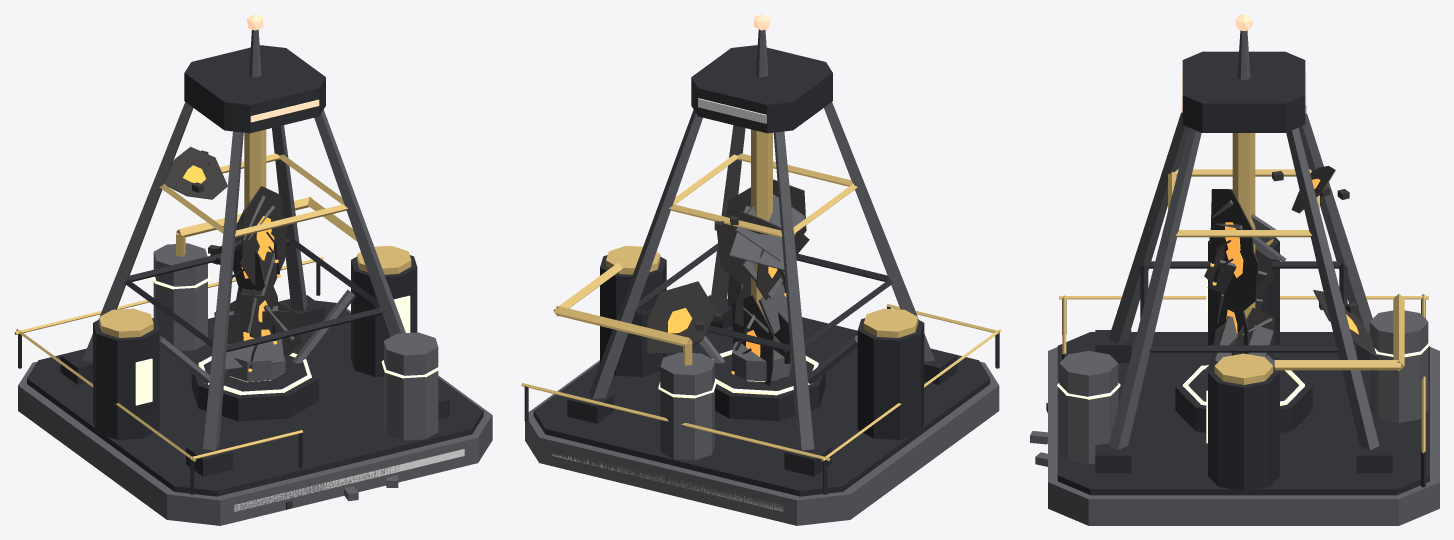
File: Aegis_ExtractionRig.fbx
3 renders of one model, left to right at view 1: azimuth 30°, elevation 25°; view 2: azimuth 150°, elevation 25°; view 3: azimuth 270°, elevation 25°, orthographic. The views are drawn at different scales.
Visible parts, largest first — view 1: ER_BaseTop, ER_Base, ER_Crown, ER_Tank1, ER2_Tank1, ER_Wellhead, ER_Leg3, ER2_Tank0, ER_Tank0, ER_Leg2, ER_Leg1, ER_Leg0 (+27 smaller); view 2: ER_BaseTop, ER_Base, ER_Crown, ER_Tank1, ER2_Tank0, ER_Leg1, ER_Leg0, ER_Wellhead, ER_Tank0, ER_Leg3, Aegis_ExtractionRig_DmgScorch7, ER2_Pipe (+24 smaller); view 3: ER_BaseTop, ER_Base, ER_Crown, ER_Tank0, ER2_Tank1, ER_Leg2, ER_Leg0, ER2_Tank0, ER_Leg3, ER_Wellhead, ER_Leg1, ER2_Pipe (+22 smaller).
Boxes of the visible parts, left/top/right/bottom form: ER_BaseTop: left=27, top=299, right=483, bottom=496; ER_Base: left=18, top=308, right=492, bottom=525; ER_Crown: left=184, top=45, right=325, bottom=133; ER_Tank1: left=93, top=318, right=159, bottom=439; ER2_Tank1: left=384, top=332, right=438, bottom=440; ER_Wellhead: left=191, top=352, right=318, bottom=421; ER_Leg3: left=203, top=131, right=243, bottom=450; ER2_Tank0: left=153, top=243, right=207, bottom=351; ER_Tank0: left=351, top=255, right=417, bottom=376; ER_Leg2: left=314, top=110, right=405, bottom=336; ER_Leg1: left=82, top=102, right=193, bottom=361; ER_Leg0: left=272, top=125, right=307, bottom=311; ER_BaseTop: left=533, top=299, right=990, bottom=496; ER_Base: left=525, top=360, right=999, bottom=525; ER_Crown: left=691, top=45, right=832, bottom=133; ER_Tank1: left=857, top=318, right=924, bottom=439; ER2_Tank0: left=660, top=352, right=714, bottom=460; ER_Leg1: left=773, top=131, right=814, bottom=450; ER_Leg0: left=589, top=110, right=702, bottom=399; ER_Wellhead: left=715, top=349, right=825, bottom=421; ER_Tank0: left=600, top=255, right=666, bottom=376; ER_Leg3: left=824, top=102, right=934, bottom=361; Aegis_ExtractionRig_DmgScorch7: left=647, top=281, right=716, bottom=354; ER2_Pipe: left=553, top=262, right=692, bottom=365; ER_BaseTop: left=1057, top=332, right=1429, bottom=495; ER_Base: left=1048, top=347, right=1439, bottom=525; ER_Crown: left=1182, top=51, right=1305, bottom=132; ER_Tank0: left=1208, top=366, right=1279, bottom=491; ER2_Tank1: left=1059, top=351, right=1118, bottom=464; ER_Leg2: left=1108, top=128, right=1201, bottom=449; ER_Leg0: left=1286, top=127, right=1379, bottom=449; ER2_Tank0: left=1369, top=310, right=1428, bottom=422; ER_Leg3: left=1108, top=112, right=1188, bottom=343; ER_Wellhead: left=1175, top=364, right=1312, bottom=433; ER_Leg1: left=1298, top=113, right=1372, bottom=334; ER2_Pipe: left=1274, top=294, right=1404, bottom=370.
Size of the model in its own units: 2.4 by 2.9 by 2.51.
